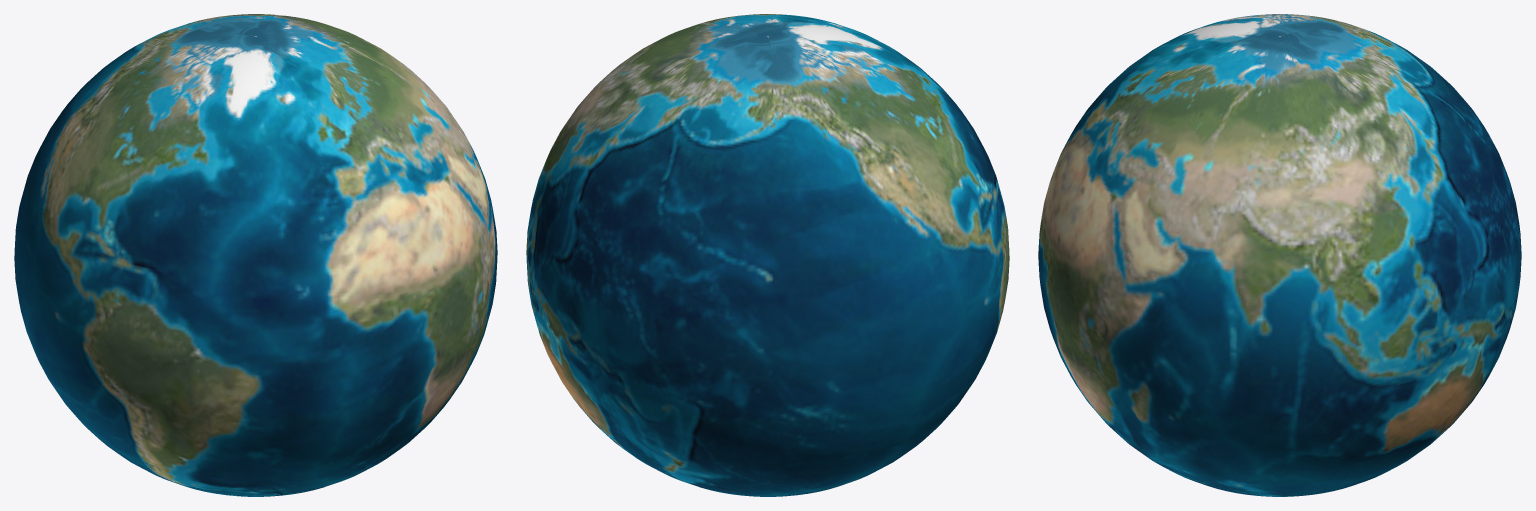
File: globe.glb
3 views of the same model, side by side, from view 1: azimuth 30°, elevation 25°; view 2: azimuth 150°, elevation 25°; view 3: azimuth 270°, elevation 25° (orthographic).
Visible parts, largest first — view 1: frame_0; view 2: frame_0; view 3: frame_0.
Boxes of the visible parts, x1=… form: frame_0: x1=14, y1=14, x2=497, y2=496; frame_0: x1=526, y1=14, x2=1009, y2=496; frame_0: x1=1038, y1=14, x2=1521, y2=496.
Bounding box in the file's own units: 2 × 2 × 2.
20 materials, 20 textured.
